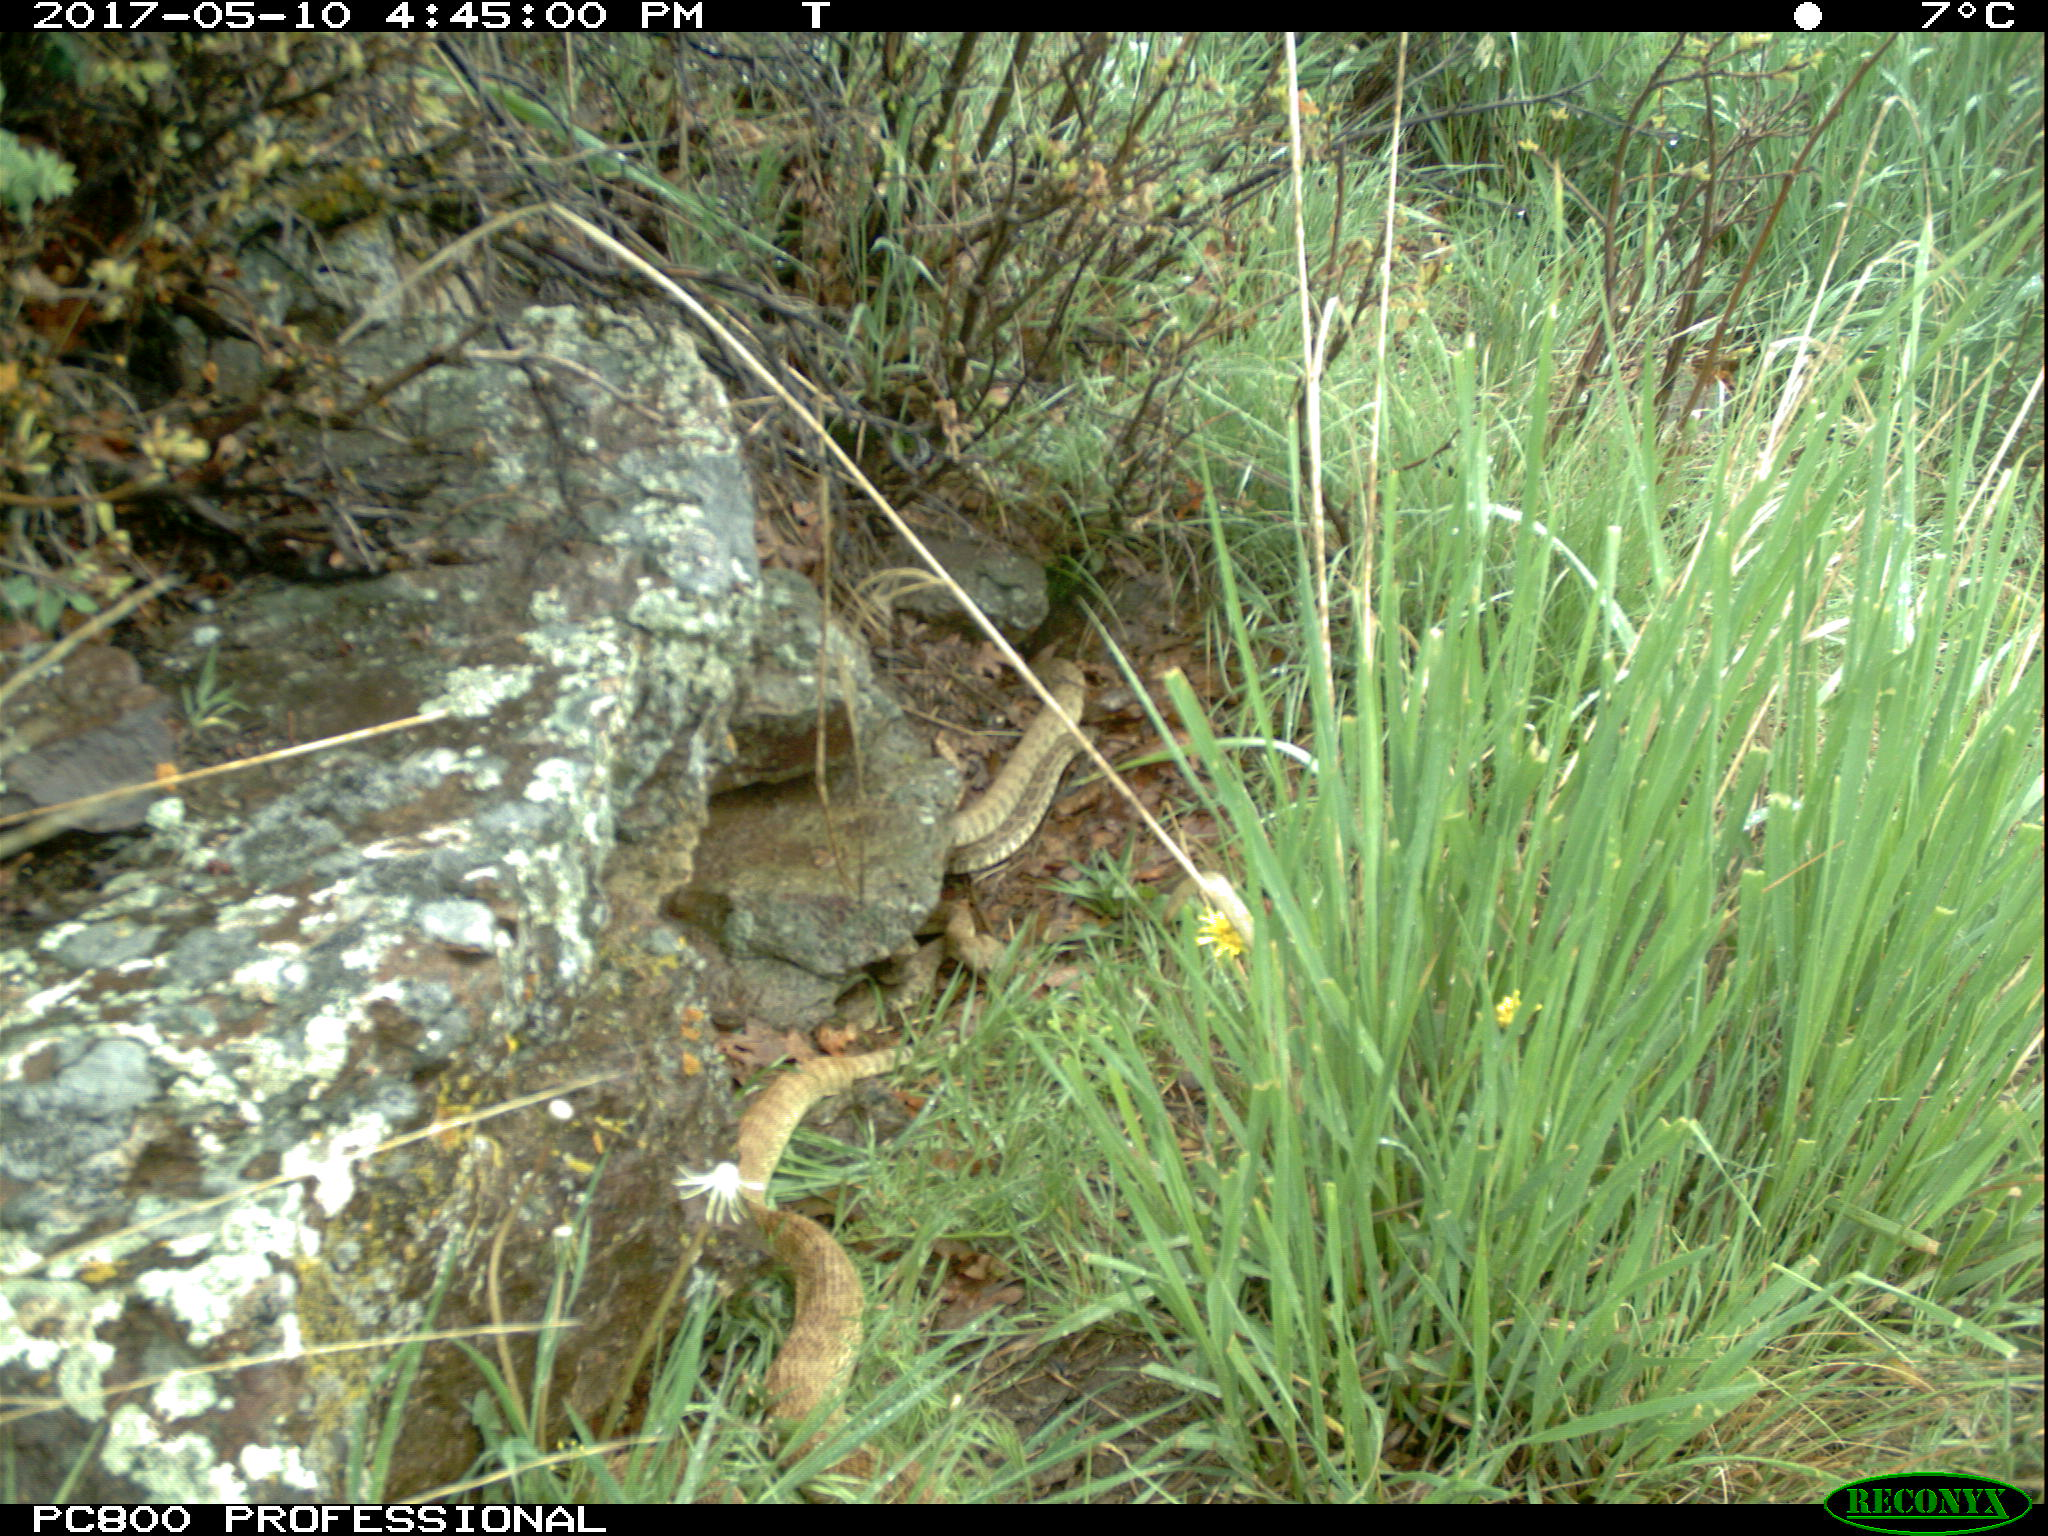snake: (722, 1039, 971, 1502), (939, 645, 1097, 871), (919, 907, 1084, 1004)
